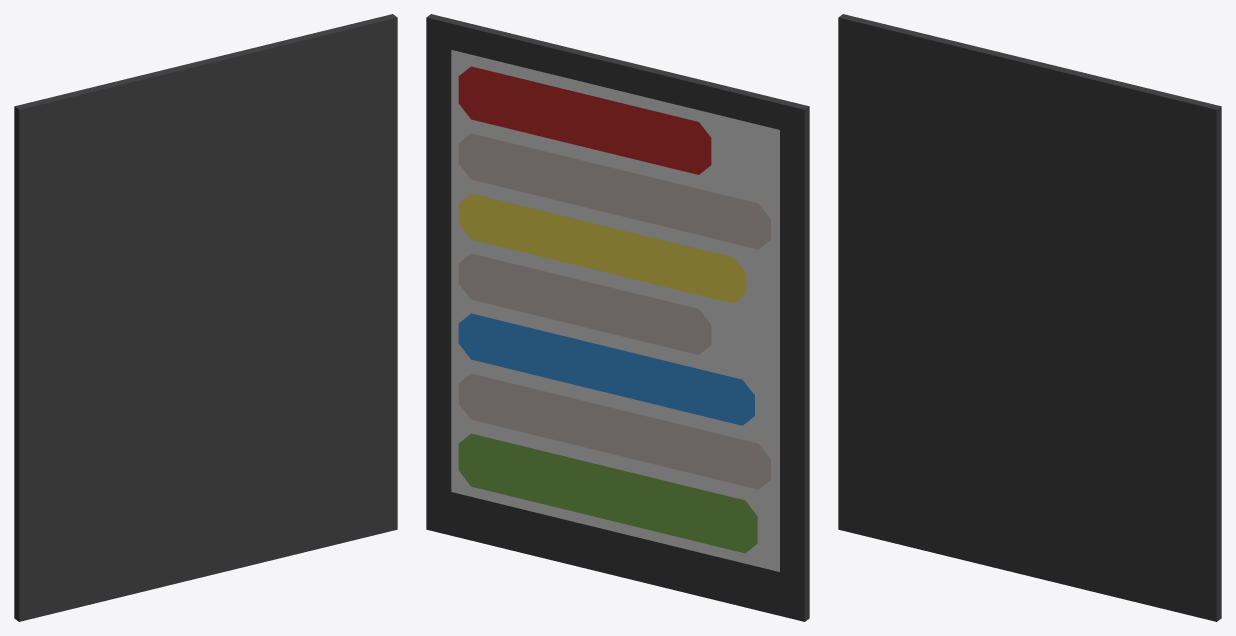
File: Tablet.fbx
3 views of the same model, side by side, from view 1: azimuth 30°, elevation 25°; view 2: azimuth 150°, elevation 25°; view 3: azimuth 330°, elevation 25° (orthographic).
Visible parts, largest first — view 1: Tablet; view 2: Tablet; view 3: Tablet.
Part boxes in pixels (x1,y1,x2,y2): Tablet: [14, 14, 397, 621]; Tablet: [426, 14, 809, 621]; Tablet: [838, 14, 1221, 621].
Bounding box in the file's own units: 55.89 × 72.27 × 1.43.
